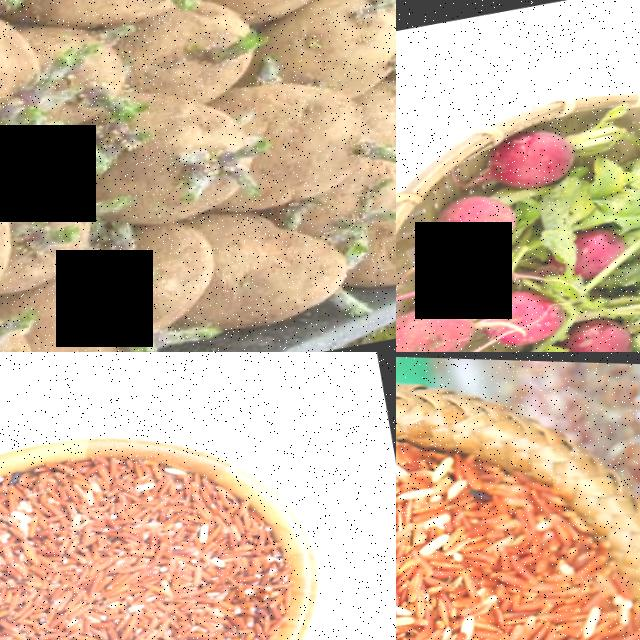potato: (214, 63, 390, 219), (196, 185, 364, 335), (94, 84, 263, 233), (268, 0, 396, 99), (0, 0, 63, 158)
radishes: (417, 117, 625, 263), (396, 226, 621, 352), (503, 305, 640, 352)
red rice: (396, 381, 640, 640), (0, 430, 300, 640)
